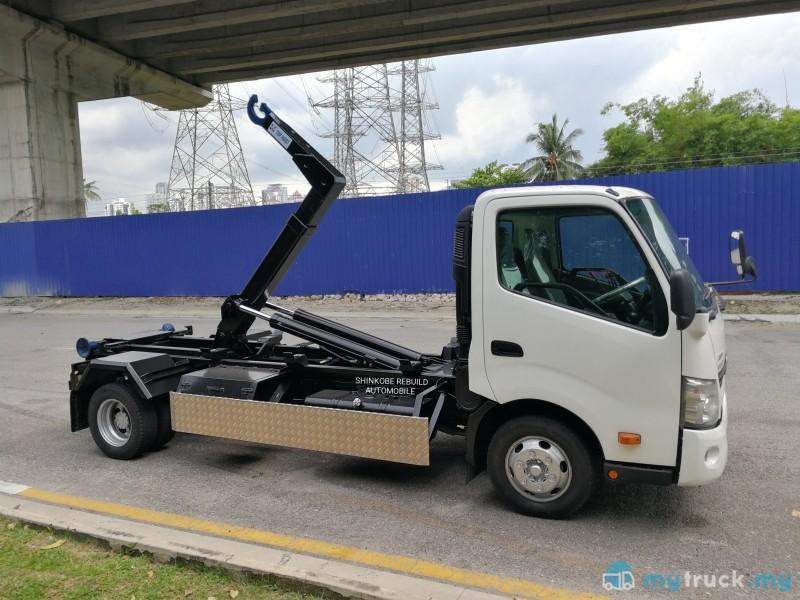truck: (69, 185, 728, 519)
